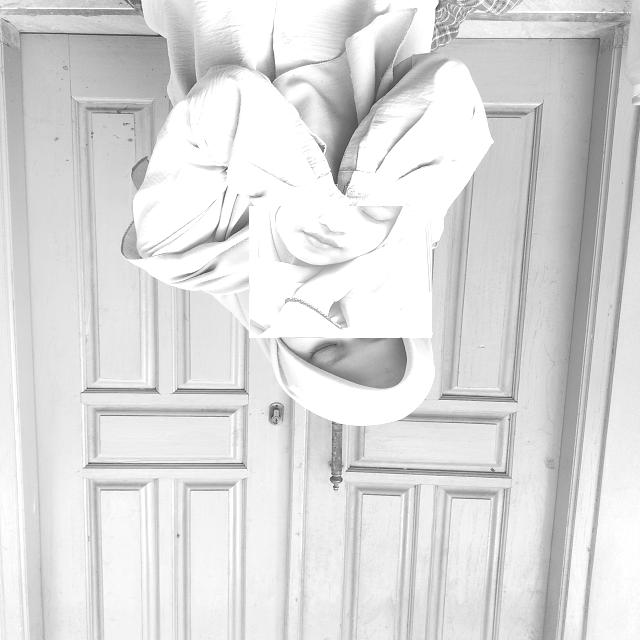tidur: (249, 206, 432, 338)
